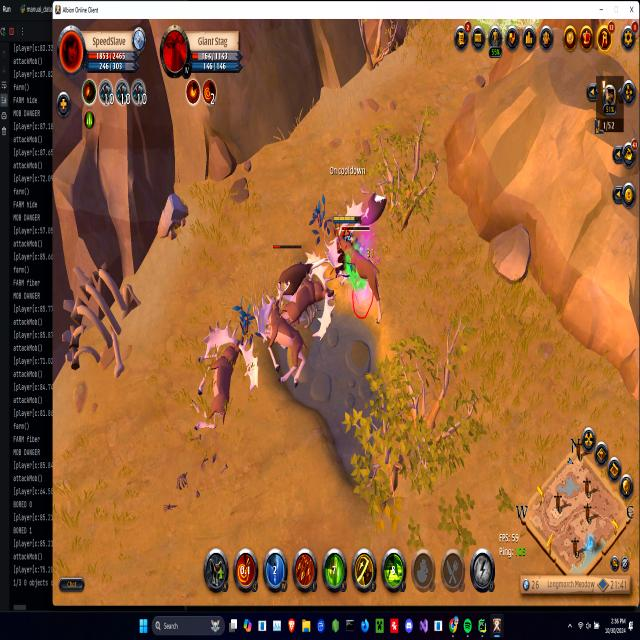mob: (193, 319, 260, 439), (257, 290, 309, 392), (282, 253, 337, 339), (358, 177, 389, 225)
ore: (336, 224, 386, 330), (270, 240, 329, 315)
red: (331, 213, 356, 276)
